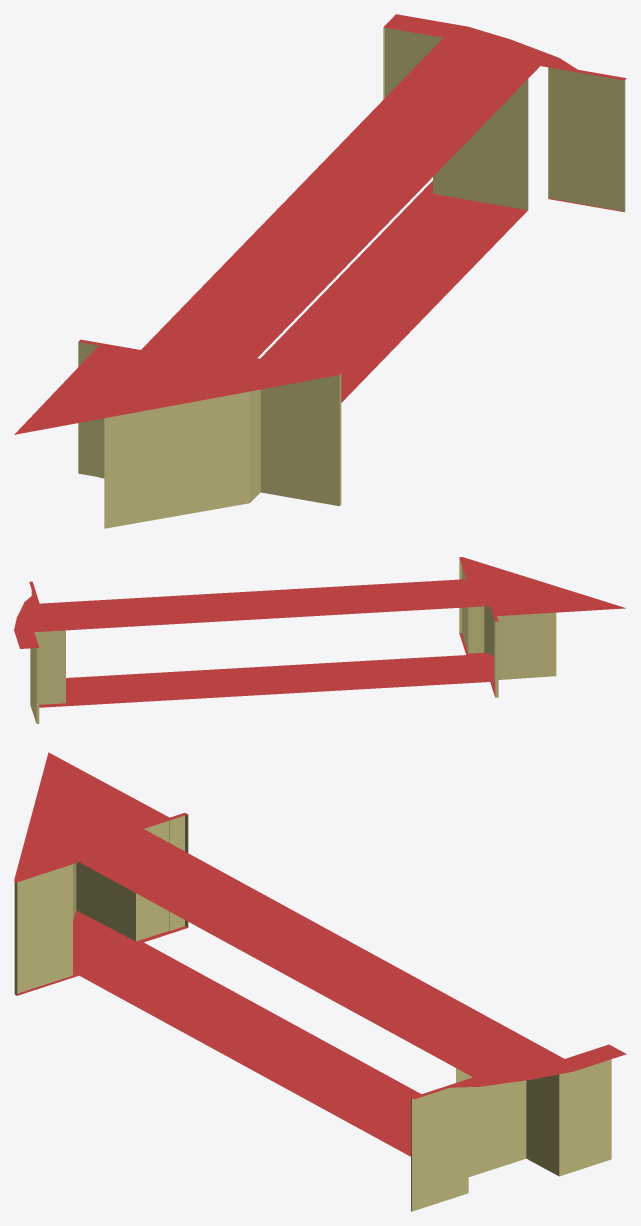
3 renders of one model, top to bottom at view 1: azimuth 30°, elevation 25°; view 2: azimuth 150°, elevation 25°; view 3: azimuth 270°, elevation 25°, orthographic. The views are drawn at different scales.
Size of the model in its own units: 39.2 by 29.26 by 5.98.
